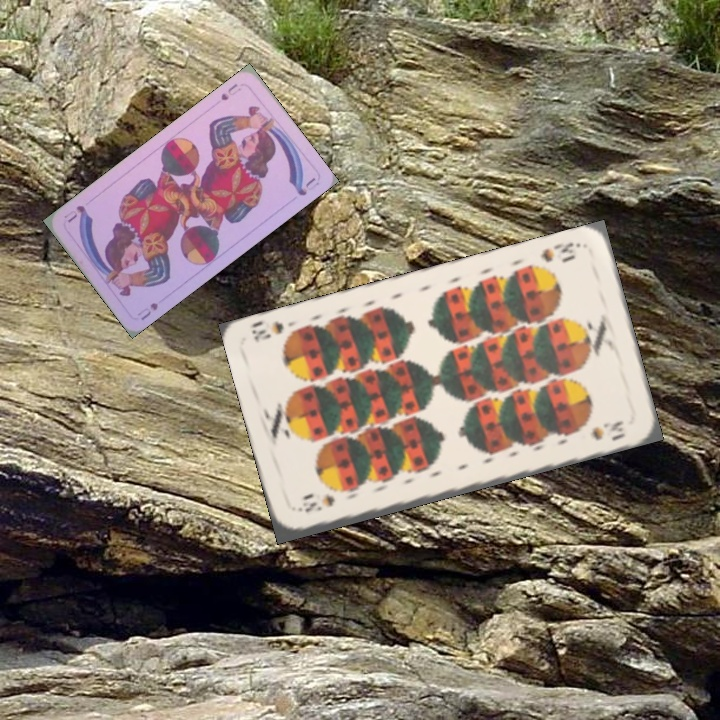S10: (537, 237, 583, 266), (294, 493, 337, 515)
SU: (133, 298, 161, 323), (217, 80, 243, 103)
